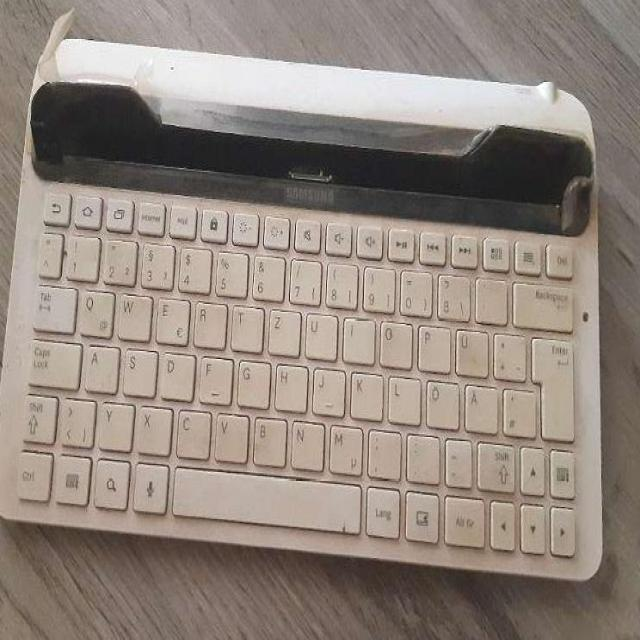0: (397, 265, 430, 313)
1: (62, 230, 98, 278)
2: (100, 234, 136, 282)
3: (138, 238, 173, 286)
4: (175, 242, 210, 289)
5: (212, 246, 247, 295)
6: (249, 250, 284, 297)
7: (287, 254, 319, 303)
8: (323, 258, 356, 305)
9: (360, 261, 394, 309)
a: (82, 340, 117, 390)
accent: (472, 273, 505, 321)
ae: (461, 379, 496, 430)
altgr-right: (440, 494, 485, 548)
b: (249, 412, 285, 463)
c: (173, 403, 210, 456)
caret: (35, 229, 61, 276)
comma: (365, 423, 400, 476)
d: (157, 348, 194, 398)
del: (510, 277, 571, 327)
e: (153, 292, 188, 341)
enter: (528, 332, 573, 438)
f: (196, 351, 232, 403)
g: (234, 355, 268, 405)
h: (271, 359, 306, 409)
hash: (499, 383, 533, 436)
i: (340, 312, 372, 360)
j: (310, 362, 343, 413)
k: (348, 367, 381, 417)
keyboard: (0, 183, 592, 586)
l: (385, 371, 418, 421)
less: (57, 393, 94, 445)
m: (325, 419, 361, 472)
minus: (441, 433, 470, 484)
n: (287, 415, 323, 468)
o: (376, 316, 409, 364)
oe: (422, 375, 457, 426)
p: (415, 320, 449, 368)
plus: (489, 328, 524, 378)
point: (403, 429, 439, 480)
q: (76, 285, 113, 335)
r: (190, 297, 225, 346)
s: (120, 344, 155, 394)
shift-left: (18, 390, 55, 441)
shift-lock: (25, 335, 79, 386)
shift-right: (474, 437, 514, 489)
space: (170, 463, 360, 530)
ss: (434, 269, 468, 317)
strg-left: (11, 446, 51, 499)
t: (228, 300, 261, 349)
tab: (29, 281, 74, 329)
u: (302, 308, 335, 358)
ue: (451, 324, 487, 374)
v: (211, 409, 247, 460)
w: (115, 288, 151, 339)
x: (134, 401, 171, 452)
y: (97, 397, 133, 449)
z: (265, 304, 299, 352)
